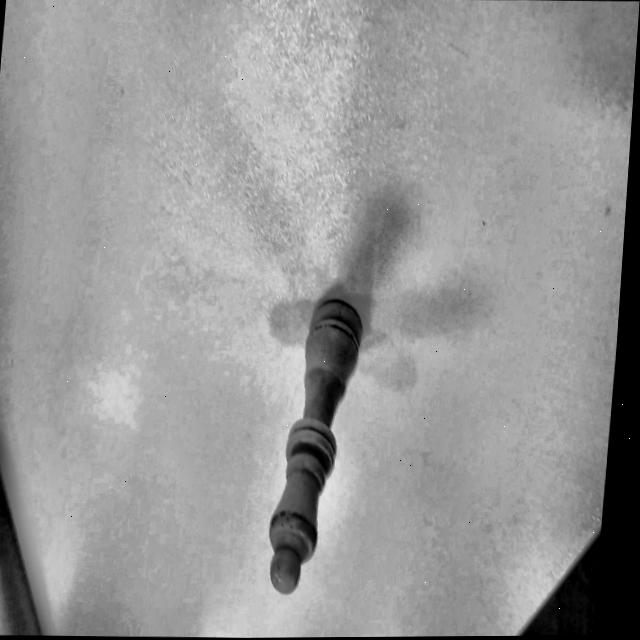white-queen: (255, 266, 367, 624)
